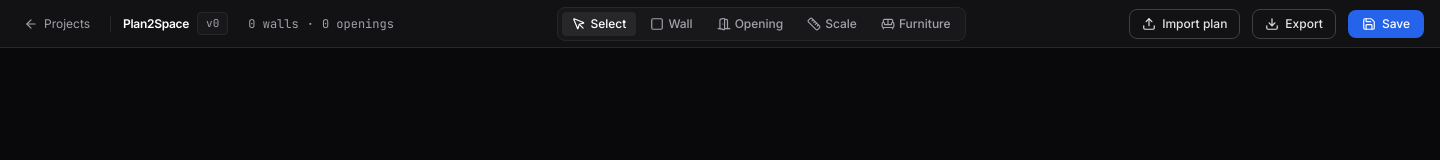
unsaved edits › shows why a save failed (e.g. overlapping rooms)
Click the button "Save" at (1386,24), box [1348,10,1424,38]
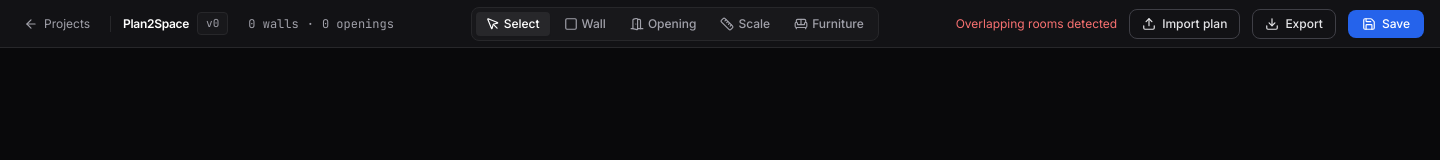
Expected: the message reads "Overlapping rooms detected", [956,16,1117,30]
